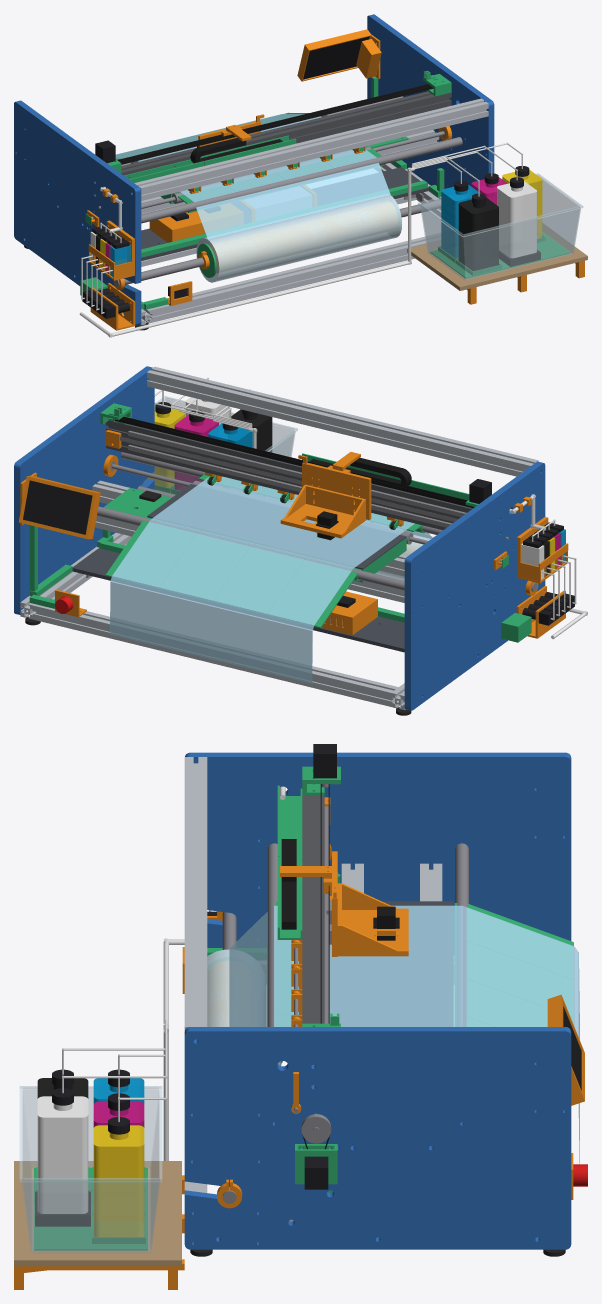
File: opendtf.glb
3 renders of one model, top to bottom at view 1: azimuth 30°, elevation 25°; view 2: azimuth 150°, elevation 25°; view 3: azimuth 270°, elevation 25°, orthographic. The views are drawn at different scales.
Parts seen in each view (by area): view 1: placa_izq, film, rollo_entrada, tinta_caja_botellas, placa_der, tirante_sup, larguero_tras, viga_x, guia_trasera, tinta_repisa, tinta_botella_W, tinta_botella_K (+25 smaller); view 2: film, placa_izq, placa_der, tirante_sup, mesa_placa, larguero_del, viga_x, mesa_salida_0, mesa_salida_3, mesa_salida_1, mesa_salida_2, electronica_bandeja (+33 smaller); view 3: placa_der, placa_izq, film, tinta_caja_botellas, mesa_placa, tinta_repisa, tirante_sup, tinta_botella_W, tinta_botella_Y, viga_x, rollo_entrada, mesa_salida_0 (+24 smaller).
Part boxes in pixels (x1,y1,x2,y2): placa_izq: (14, 100, 141, 325); film: (115, 114, 390, 239); rollo_entrada: (196, 194, 401, 282); tinta_caja_botellas: (418, 173, 583, 280); placa_der: (367, 14, 494, 188); tirante_sup: (134, 98, 488, 200); larguero_tras: (149, 230, 459, 322); viga_x: (121, 91, 451, 178); guia_trasera: (141, 137, 462, 223); tinta_repisa: (407, 219, 587, 290); tinta_botella_W: (497, 181, 536, 258); tinta_botella_K: (458, 197, 498, 271); film: (110, 476, 432, 683); placa_izq: (404, 461, 545, 710); placa_der: (14, 366, 154, 614); tirante_sup: (147, 366, 538, 476); mesa_placa: (147, 484, 406, 569); larguero_del: (34, 604, 398, 706); viga_x: (106, 420, 471, 530); mesa_salida_0: (268, 557, 361, 628); mesa_salida_3: (105, 517, 199, 588); mesa_salida_1: (214, 544, 305, 614); mesa_salida_2: (160, 531, 252, 601); electronica_bandeja: (72, 547, 404, 652); placa_der: (184, 1027, 571, 1249); placa_izq: (185, 752, 571, 947); film: (229, 905, 579, 1163); tinta_caja_botellas: (19, 1086, 162, 1252); mesa_placa: (330, 901, 453, 1026); tinta_repisa: (14, 1161, 181, 1266); tirante_sup: (184, 757, 207, 1031); tinta_botella_W: (37, 1096, 88, 1213); tinta_botella_Y: (93, 1125, 144, 1236); viga_x: (302, 795, 324, 1023); rollo_entrada: (207, 949, 265, 1026); mesa_salida_0: (454, 903, 573, 979).
Bounding box in the file's own units: 1414 × 482 × 1025.
